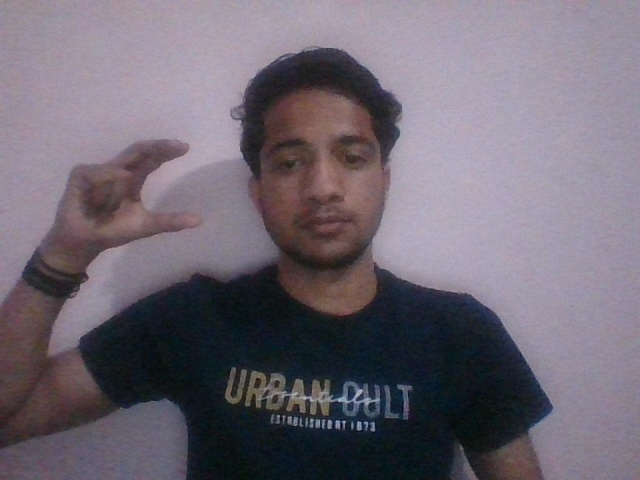no: (42, 137, 212, 252)
